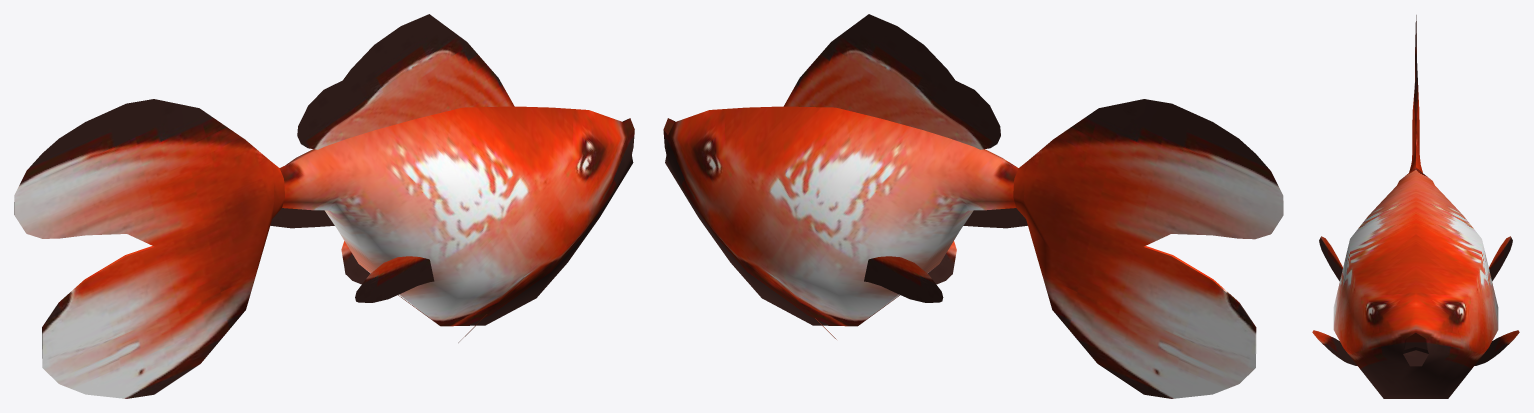
File: goldfish.dae
3 renders of one model, left to right at view 1: azimuth 30°, elevation 25°; view 2: azimuth 150°, elevation 25°; view 3: azimuth 270°, elevation 25°, orthographic. The views are drawn at different scales.
Visible parts, largest first — view 1: group_3, group_2, group_4, group_6, group_1, group_7; view 2: group_3, group_2, group_4, group_1, group_6, group_5; view 3: group_2, group_3, group_5, group_7, group_1, group_6.
Boxes of the visible parts, box(x1,y1,x2,y2) form: group_3: box(14, 99, 284, 398); group_2: box(279, 106, 634, 326); group_4: box(297, 14, 514, 149); group_6: box(355, 256, 434, 302); group_1: box(270, 208, 334, 228); group_7: box(341, 241, 370, 284); group_3: box(1013, 99, 1283, 398); group_2: box(663, 106, 1018, 326); group_4: box(783, 14, 1000, 149); group_1: box(864, 256, 943, 302); group_6: box(963, 208, 1027, 228); group_5: box(927, 241, 956, 284); group_2: box(1333, 167, 1498, 398); group_3: box(1409, 15, 1422, 172); group_5: box(1312, 330, 1357, 365); group_7: box(1474, 330, 1519, 365); group_1: box(1489, 236, 1512, 281); group_6: box(1319, 236, 1342, 281).
Bounding box in the file's own units: 152 × 55.33 × 73.96.
Materials: 1 (1 with a texture image).
